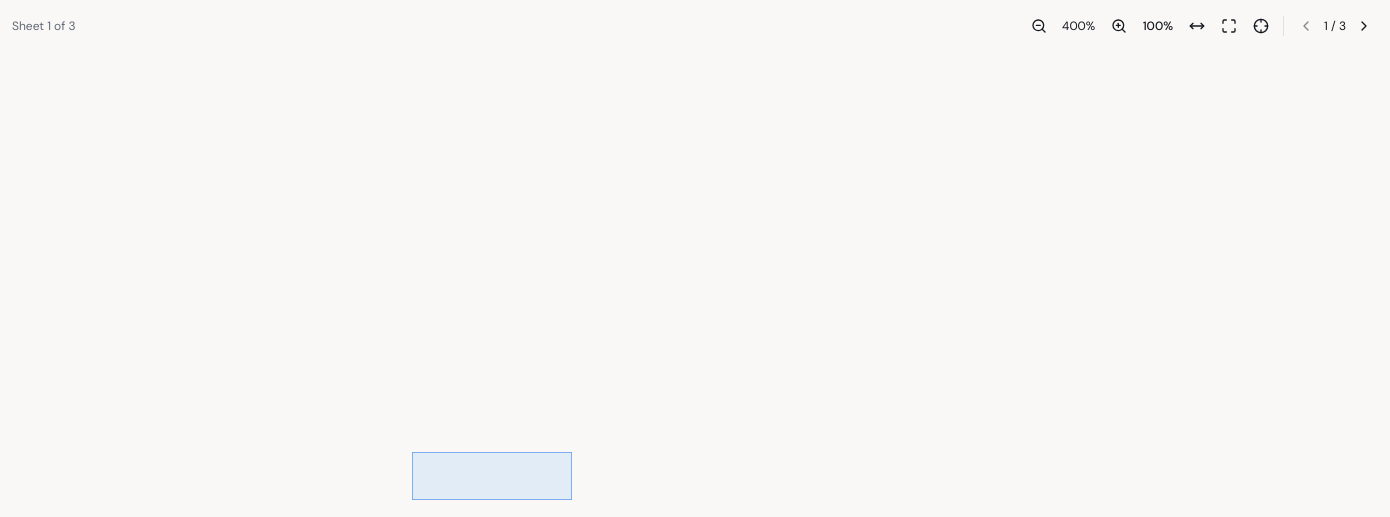
Test: PdfEvidenceViewer — zoom (default toolbar, as production uses it) › in marker mode a manual zoom survives page navigation
Click the button titled "Actual size, 100% (1)".
click(1158, 26)  # box [1137,12,1179,40]
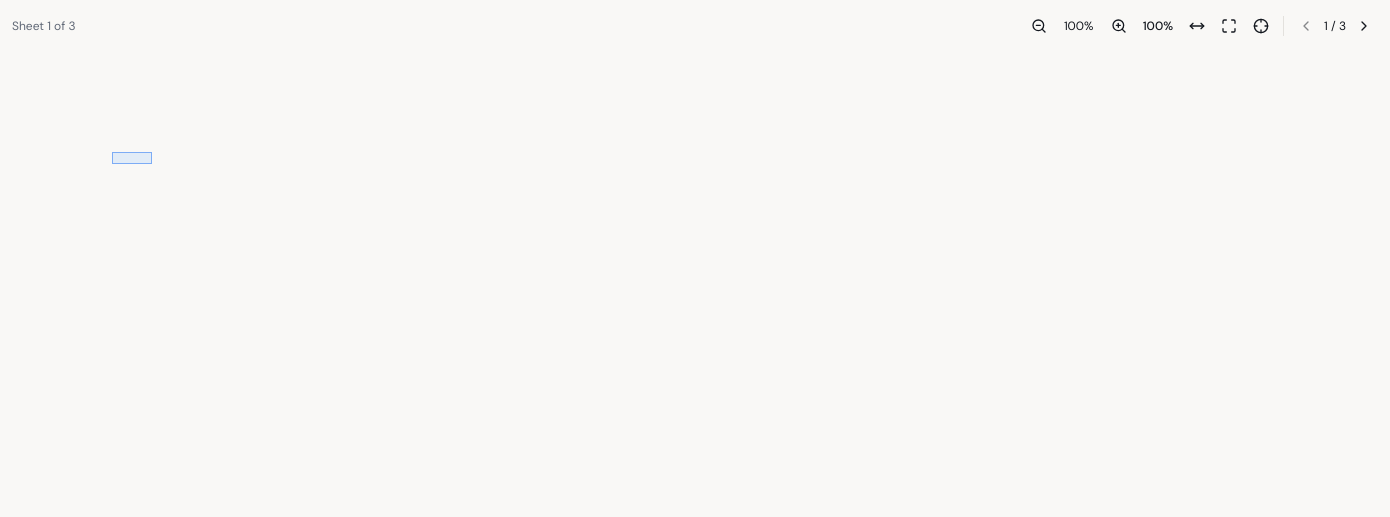
Expected: the text named "Zoom level" reads "100%", [1064,18,1094,34]
Click the button titled "Next page".
click(1364, 26)  # box [1350,12,1378,40]
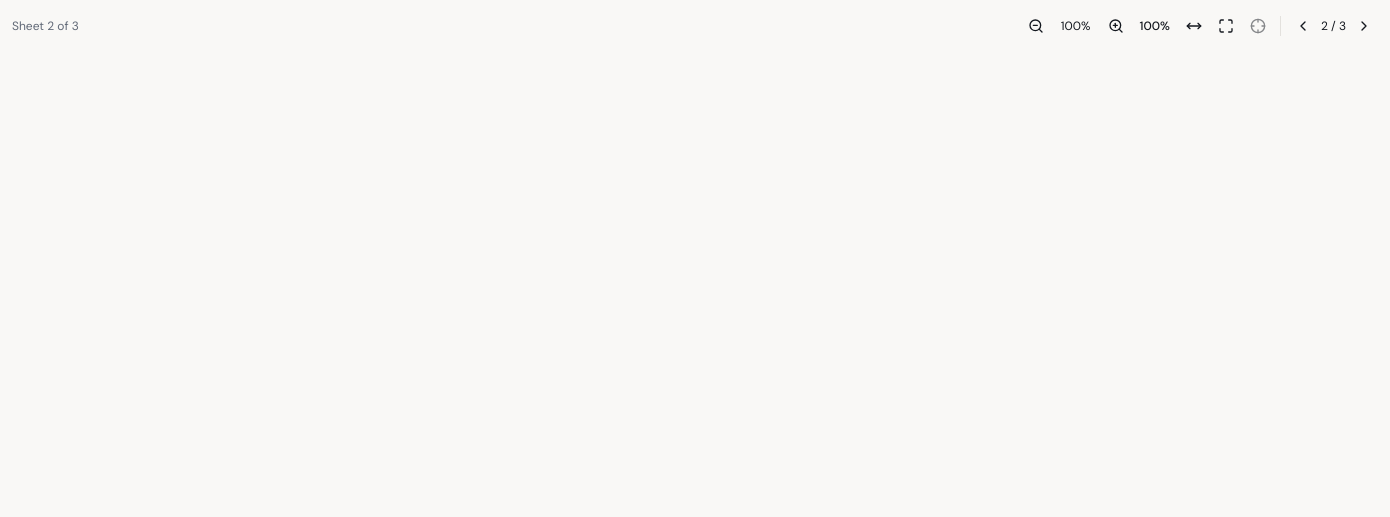
Expected: the text named "Zoom level" reads "100%", [1061,18,1090,34]
Expected: the text "2 / 3" is shown, [1321,18,1346,34]
